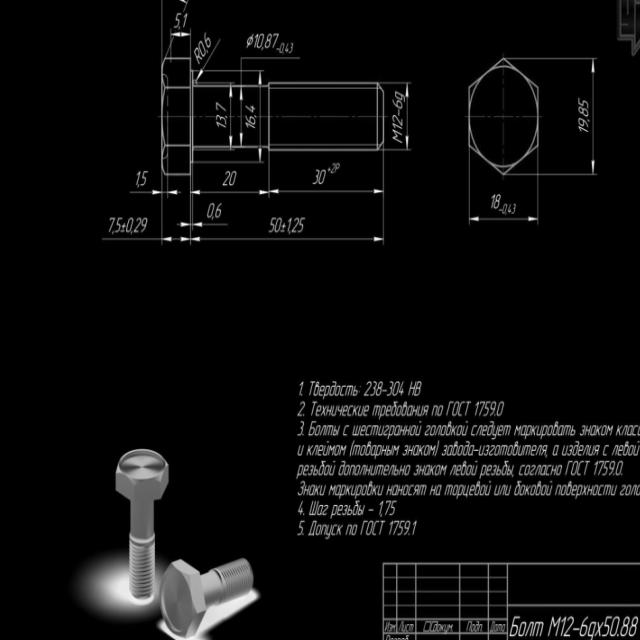marking_line: (192, 237, 384, 243), (270, 187, 382, 195), (590, 59, 596, 174), (258, 71, 265, 162), (470, 214, 538, 223), (237, 88, 245, 149), (228, 84, 235, 150), (190, 190, 270, 195), (405, 81, 410, 150), (193, 221, 229, 228), (169, 31, 193, 40), (163, 236, 190, 242), (129, 191, 161, 195), (168, 188, 181, 197), (175, 220, 189, 228)
numeric: (106, 214, 153, 239), (269, 216, 308, 236), (387, 91, 406, 129), (574, 94, 590, 136), (213, 100, 229, 130), (254, 32, 279, 51), (485, 191, 504, 212), (204, 201, 226, 218), (244, 101, 256, 131), (198, 32, 211, 58), (220, 172, 241, 188), (172, 12, 189, 31), (314, 164, 328, 187), (133, 167, 148, 188), (278, 41, 298, 55), (499, 204, 520, 215)
special_symbol: (193, 60, 208, 85)
